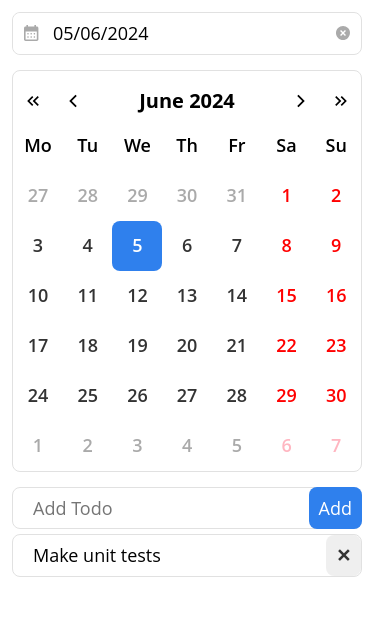
Test: TodoPicker › removes todo when clicking remove
The image size is (379, 642).
Type "Make pelmeni" into the field with test id "todo-input" at (187, 508), box x1=12 y1=487 x2=362 y2=529
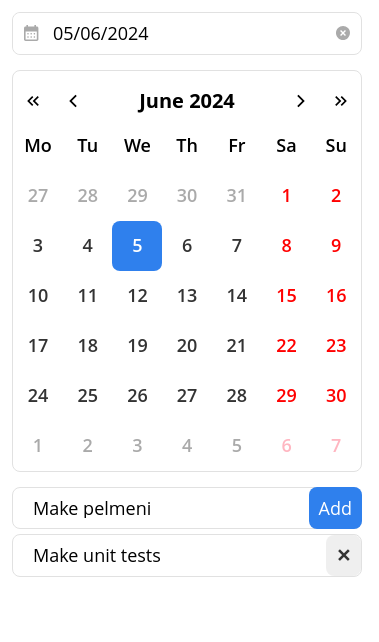
Click the button with test id "todo-add" at (335, 508), box x1=308 y1=487 x2=362 y2=529
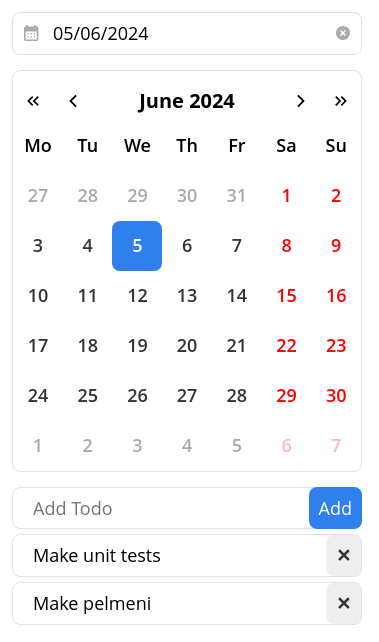
Click the button with test id "todo-remove" in the row of "Make pelmeni" at (343, 603), box x1=326 y1=583 x2=361 y2=624
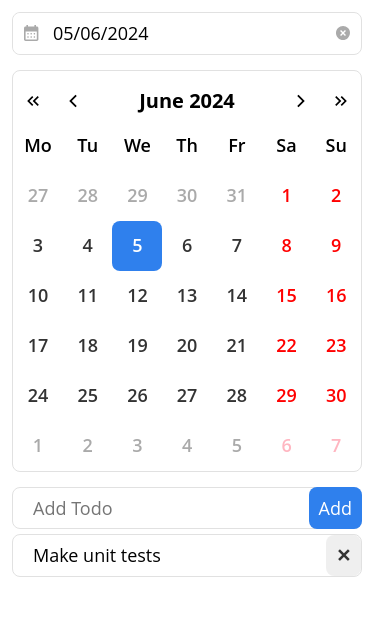
Check: the text "Make pelmeni" is gone
